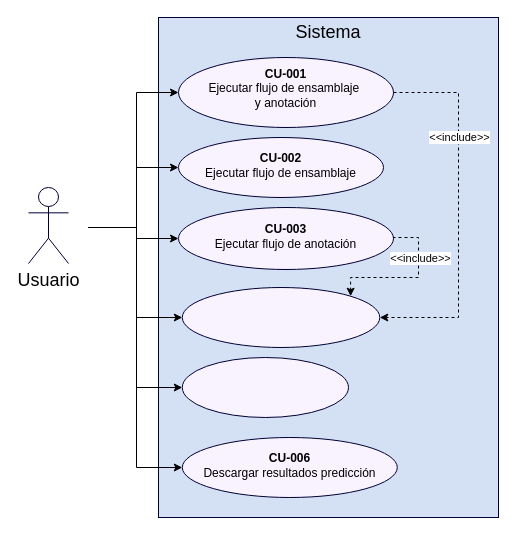
Some shapes in this 516 by 535 pixel diagram are drawn without their labels. The shapes that lost their labels are listed below. From the top down, each one's centre as x and y in pixels, then its label:
At pixel 280 317: "CU-004 Generar features para predicción".
At pixel 264 387: "CU-005 Ejecutar predicción".
